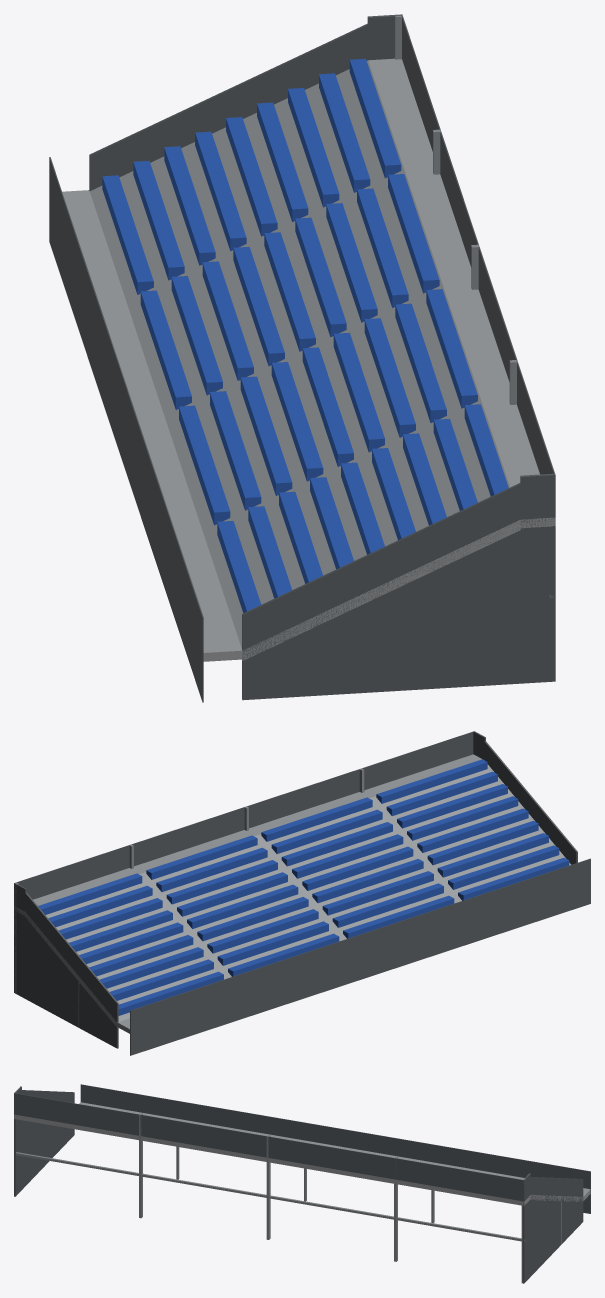
The model's file is mza_stand_seconda_variante.glb.
3 views of the same model, one above another, from view 1: azimuth 30°, elevation 25°; view 2: azimuth 150°, elevation 25°; view 3: azimuth 270°, elevation 25° (orthographic). The views are drawn at different scales.
Parts seen in each view (by area): view 1: monza-seconda-variante; view 2: monza-seconda-variante; view 3: monza-seconda-variante.
Boxes of the visible parts, x1,y1,x2,y2 form: monza-seconda-variante: (49, 14, 555, 702); monza-seconda-variante: (14, 731, 590, 1055); monza-seconda-variante: (14, 1084, 590, 1283).
Size of the model in its own units: 19.03 by 5.84 by 29.56.
